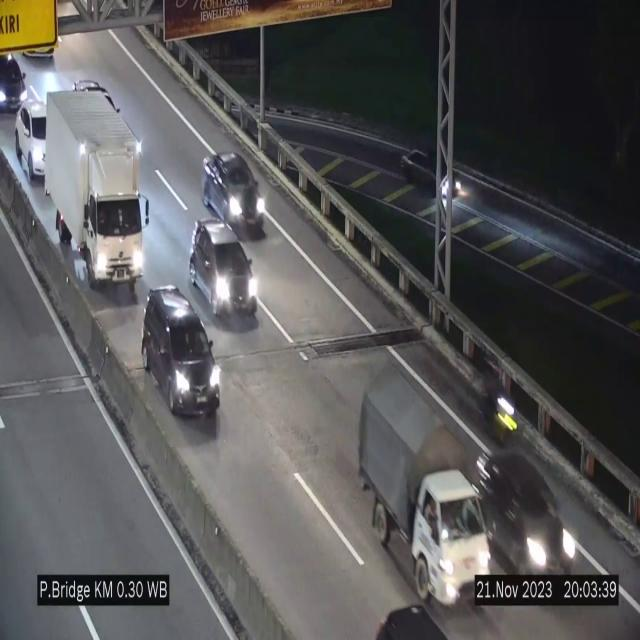Car: (482, 448, 573, 577), (142, 288, 220, 414), (188, 223, 260, 323), (202, 145, 268, 242), (0, 42, 36, 119), (14, 100, 46, 182)
Motorcycle: (481, 370, 517, 450)
Truck: (359, 381, 491, 602), (42, 88, 150, 283)
